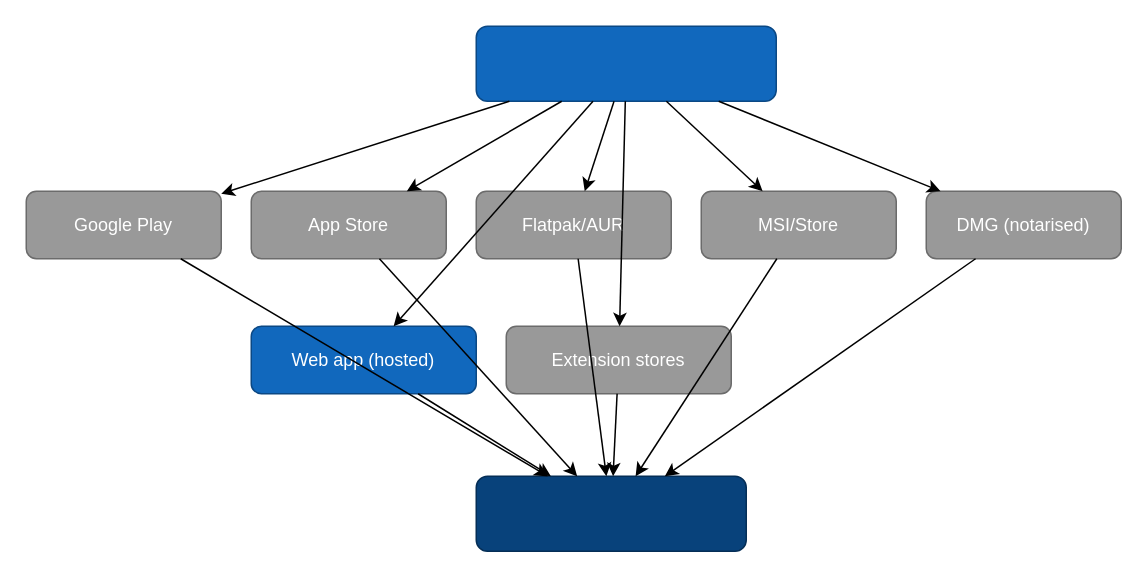
Image size: 1148x578. Some labels were removed from this diagram. The centre of each missing label's shape, as x and y in pixels:
"Bifrost CI (build+PQ sign)" goes at (625,63).
"User devices" goes at (610,513).
